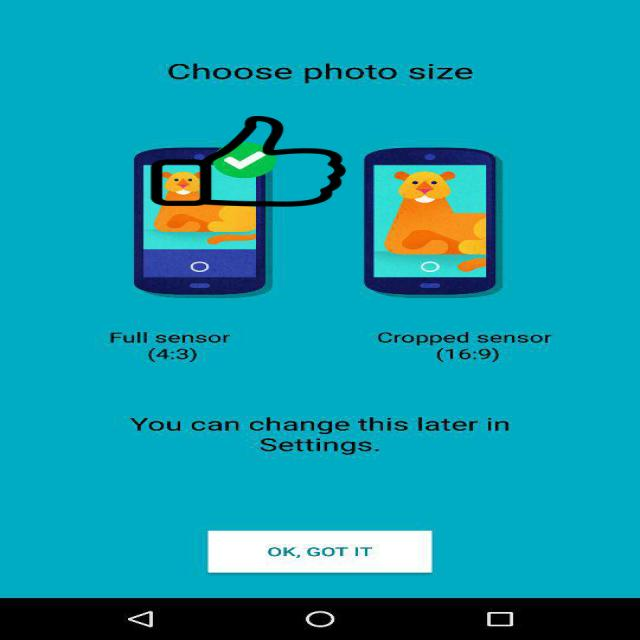privacy zuckering: (148, 116, 349, 207)
